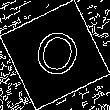O_S: (26, 24, 84, 86)
